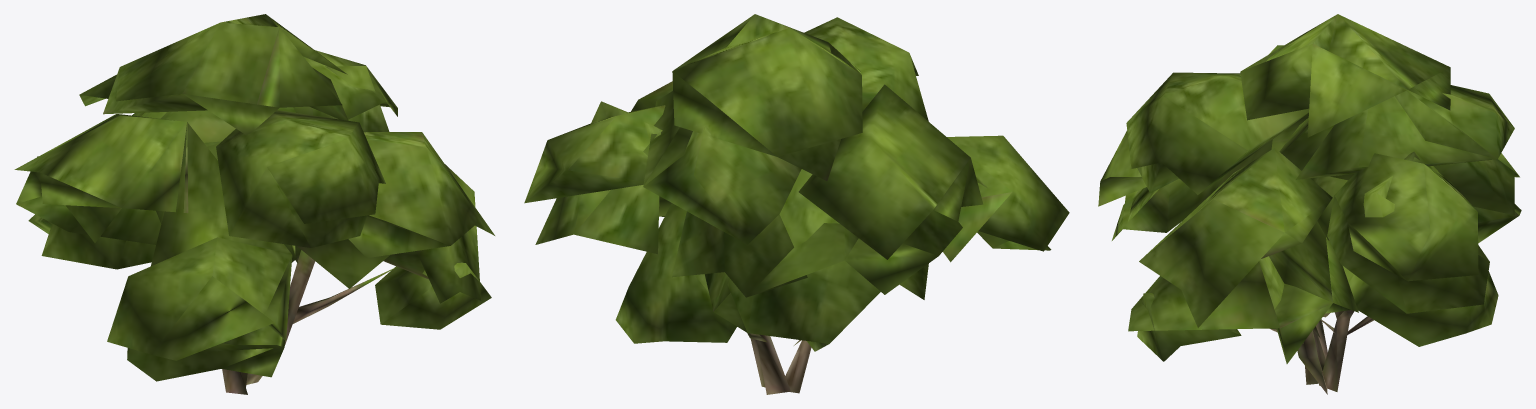
Rendered from bush-02.glb.
3 views of the same model, side by side, from view 1: azimuth 30°, elevation 25°; view 2: azimuth 150°, elevation 25°; view 3: azimuth 270°, elevation 25° (orthographic).
Size of the model in its own units: 0.9668 by 0.8311 by 0.8682.
1 material, 1 textured.
